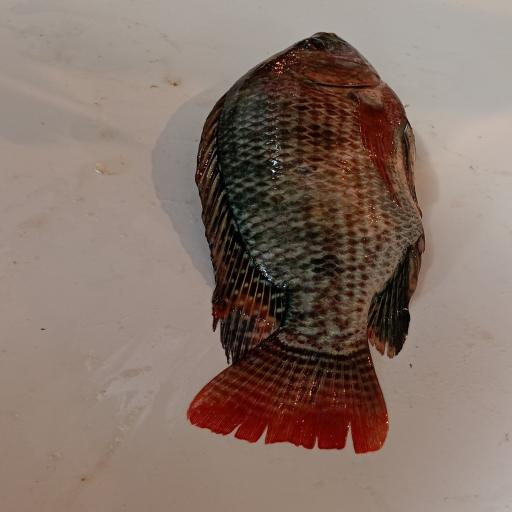Tilapia: (186, 32, 426, 455)
